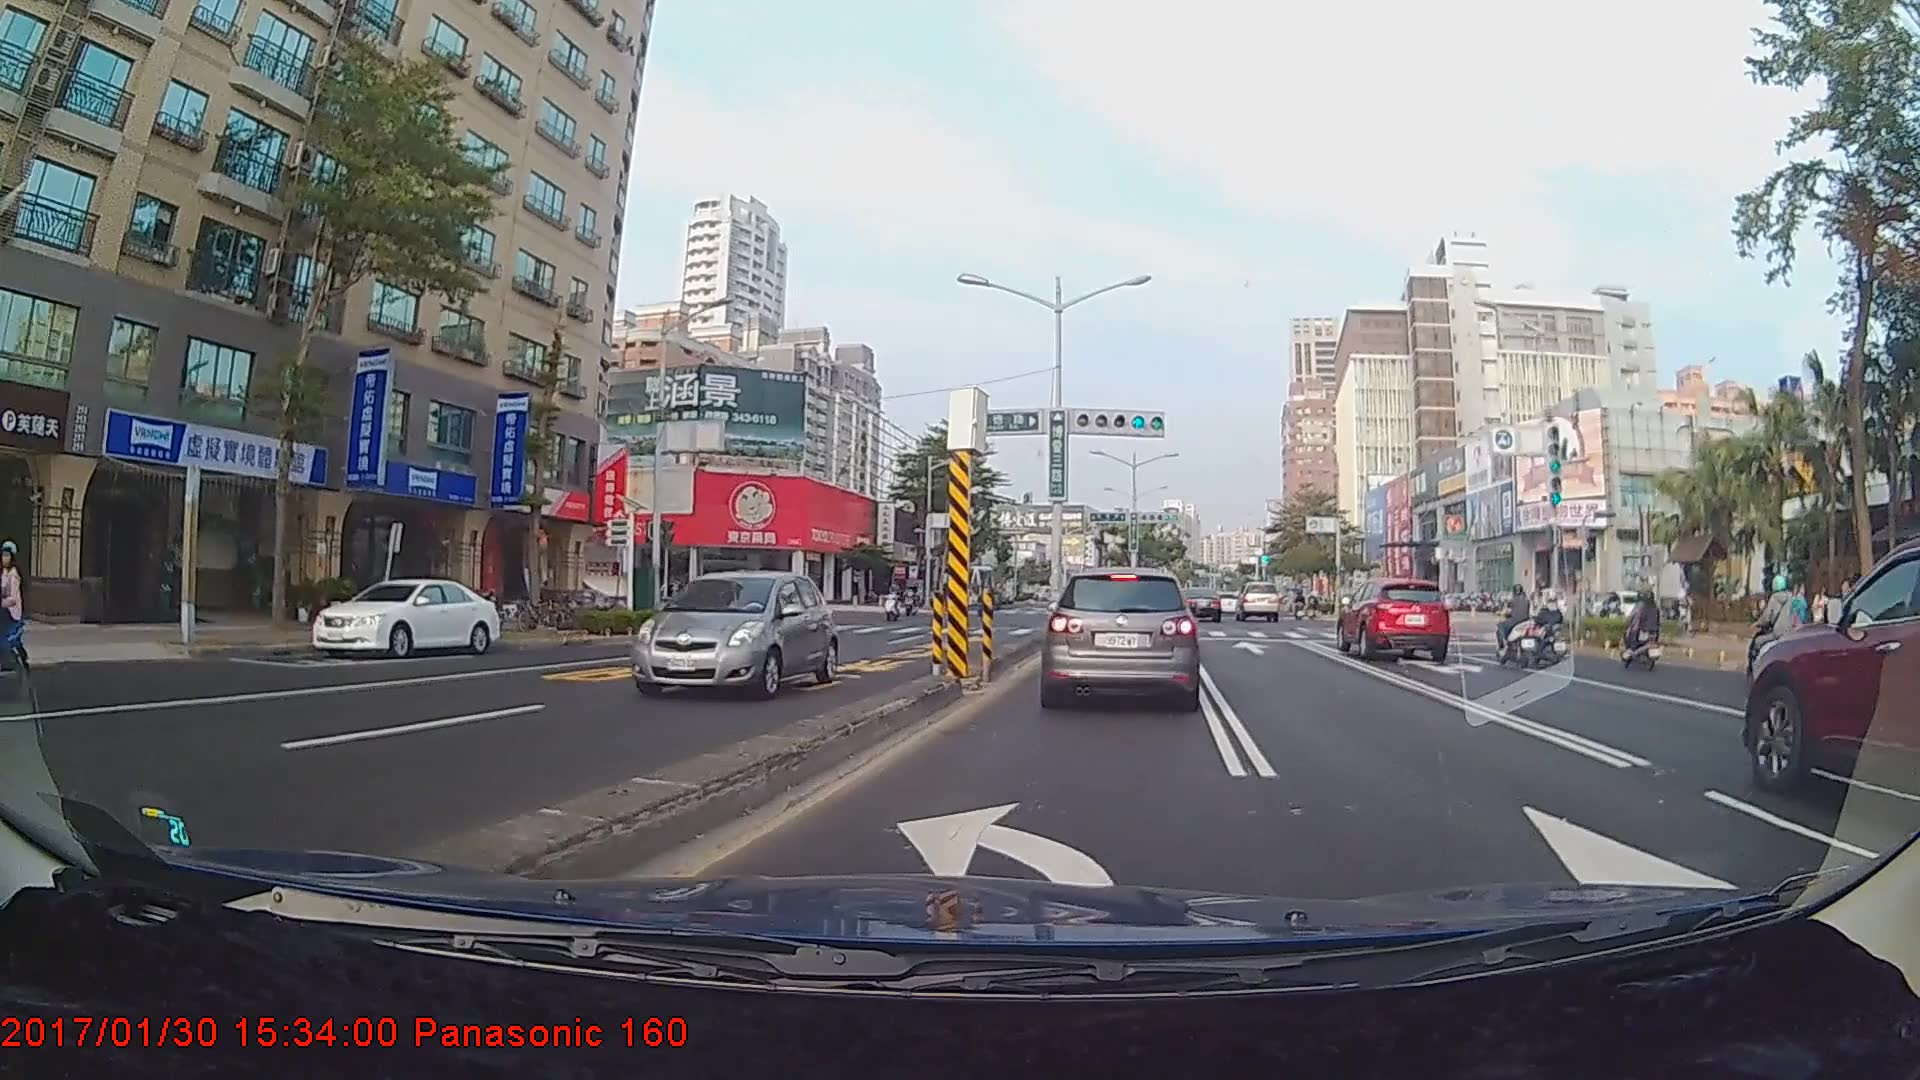pedestrian: (1788, 581, 1813, 651)
rider: (1, 539, 45, 695), (1488, 582, 1546, 668), (1524, 586, 1576, 674), (1612, 590, 1665, 671)
vehicle: (1740, 534, 1917, 840), (629, 571, 841, 702), (1042, 565, 1198, 708), (310, 577, 500, 659), (1334, 574, 1454, 662), (1235, 580, 1280, 622), (1179, 587, 1221, 622)
